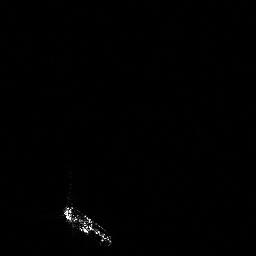ship: (56, 199, 115, 250)
